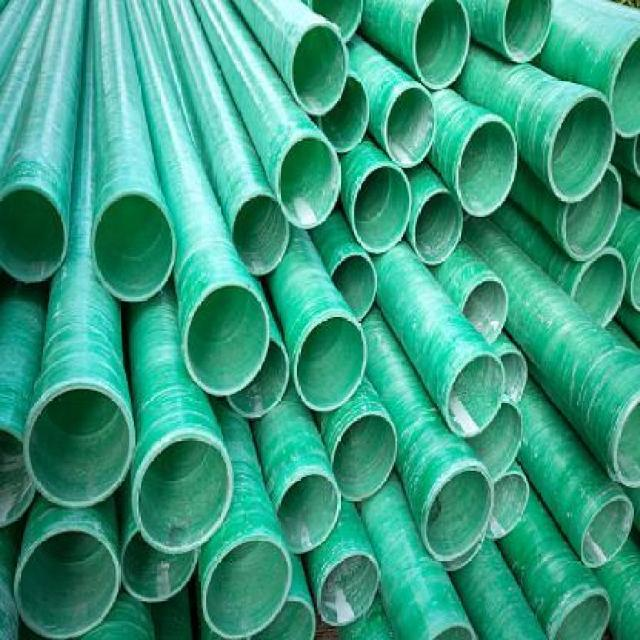pipe: (25, 385, 136, 508), (14, 528, 120, 640), (133, 435, 233, 552), (185, 283, 270, 396), (203, 536, 293, 640), (92, 191, 176, 302), (550, 91, 616, 202), (292, 314, 366, 412), (425, 465, 496, 564), (0, 186, 68, 284), (560, 163, 623, 260), (275, 134, 340, 228), (457, 118, 518, 217), (332, 414, 398, 502), (120, 529, 198, 603), (291, 23, 347, 116), (277, 472, 341, 553), (412, 2, 470, 90), (353, 163, 410, 252), (446, 352, 506, 436), (465, 400, 524, 484), (228, 337, 290, 416), (317, 554, 382, 626), (569, 248, 626, 330), (233, 195, 290, 276), (385, 88, 437, 170), (318, 72, 370, 153), (581, 497, 634, 568), (414, 191, 463, 266), (503, 0, 554, 64), (329, 254, 376, 322), (462, 277, 510, 343), (551, 588, 612, 638), (485, 471, 530, 538)
